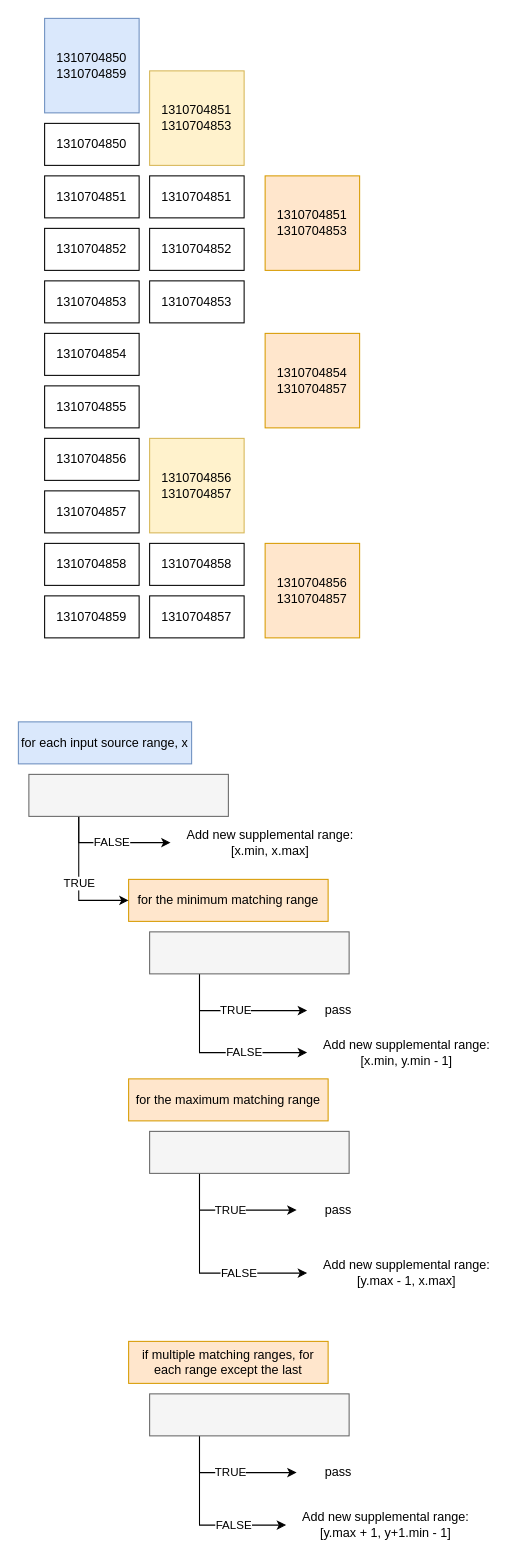
This 525x1559 diagram has some shape labels left out. The shapes that lost their labels are listed below. From the top down, each one's centre as x and y in pixels, then its label:
point 128,794: are there any matching ranges?
point 249,952: is x.min = y.min?
point 249,1151: is x.max = y.max?
point 249,1414: is y.max = y+1.min?
